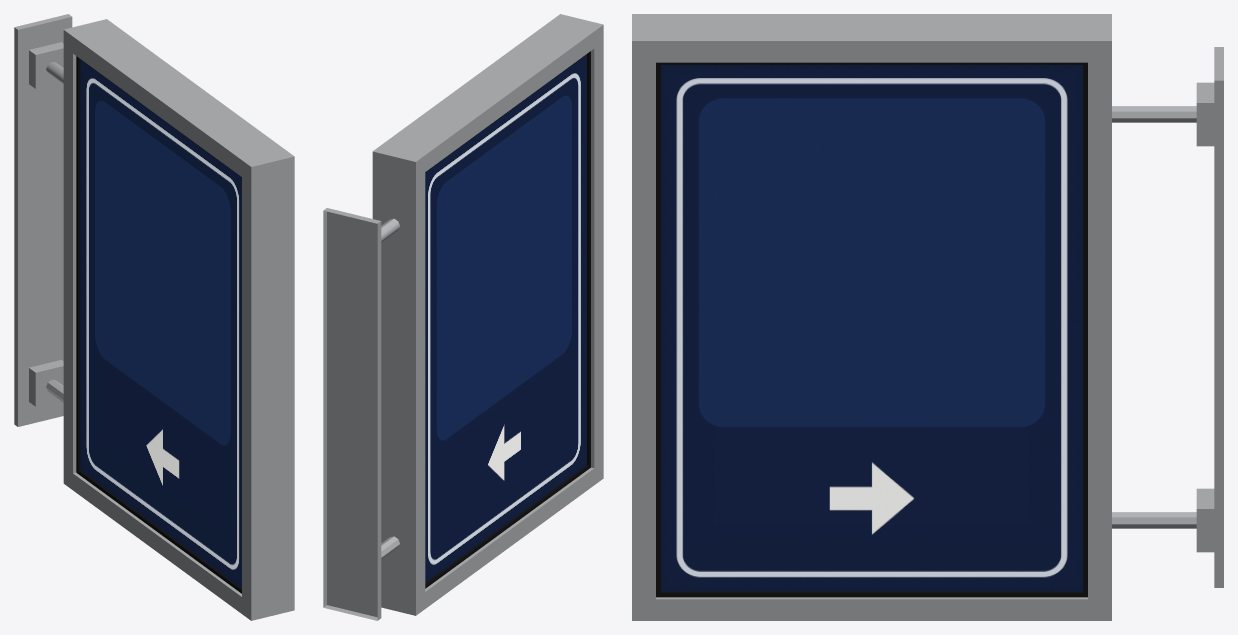
The model's file is gteki_sign_blade_navy.glb.
3 renders of one model, left to right at view 1: azimuth 30°, elevation 25°; view 2: azimuth 150°, elevation 25°; view 3: azimuth 270°, elevation 25°, orthographic. The views are drawn at different scales.
Visible parts, largest first — view 1: VIS_body; view 2: VIS_body; view 3: VIS_body.
Part boxes in pixels (bbox=[...]): VIS_body: bbox=[14, 14, 294, 620]; VIS_body: bbox=[323, 14, 603, 620]; VIS_body: bbox=[632, 14, 1223, 620].
Size of what is drawn, in the model's own units: 0.1 by 0.8 by 0.74.
Materials: 3 (3 with a texture image).
